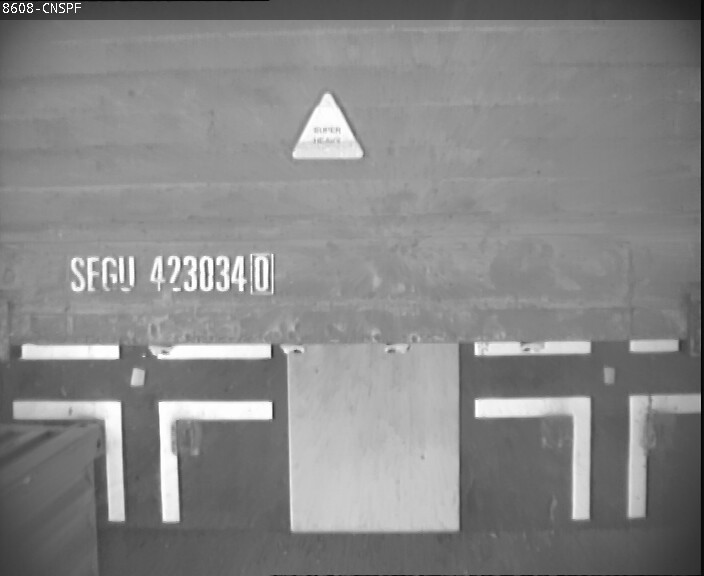groundmarker_1: (16, 396, 272, 529), (475, 397, 704, 522)
